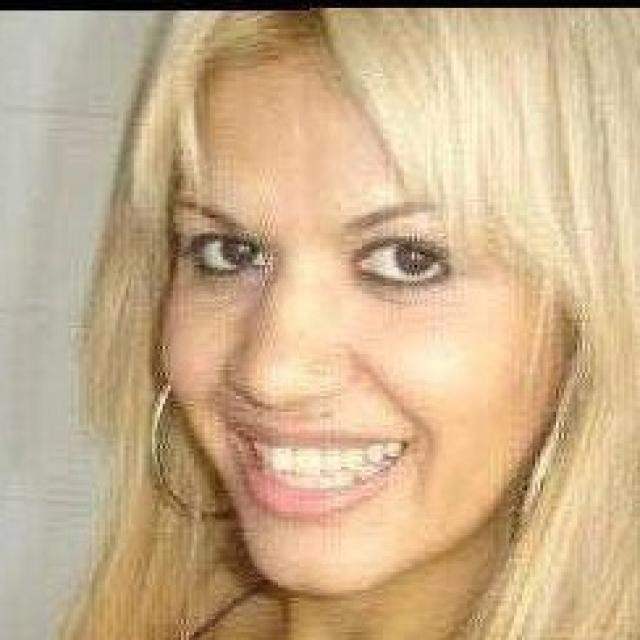Normal: (156, 34, 582, 602)
